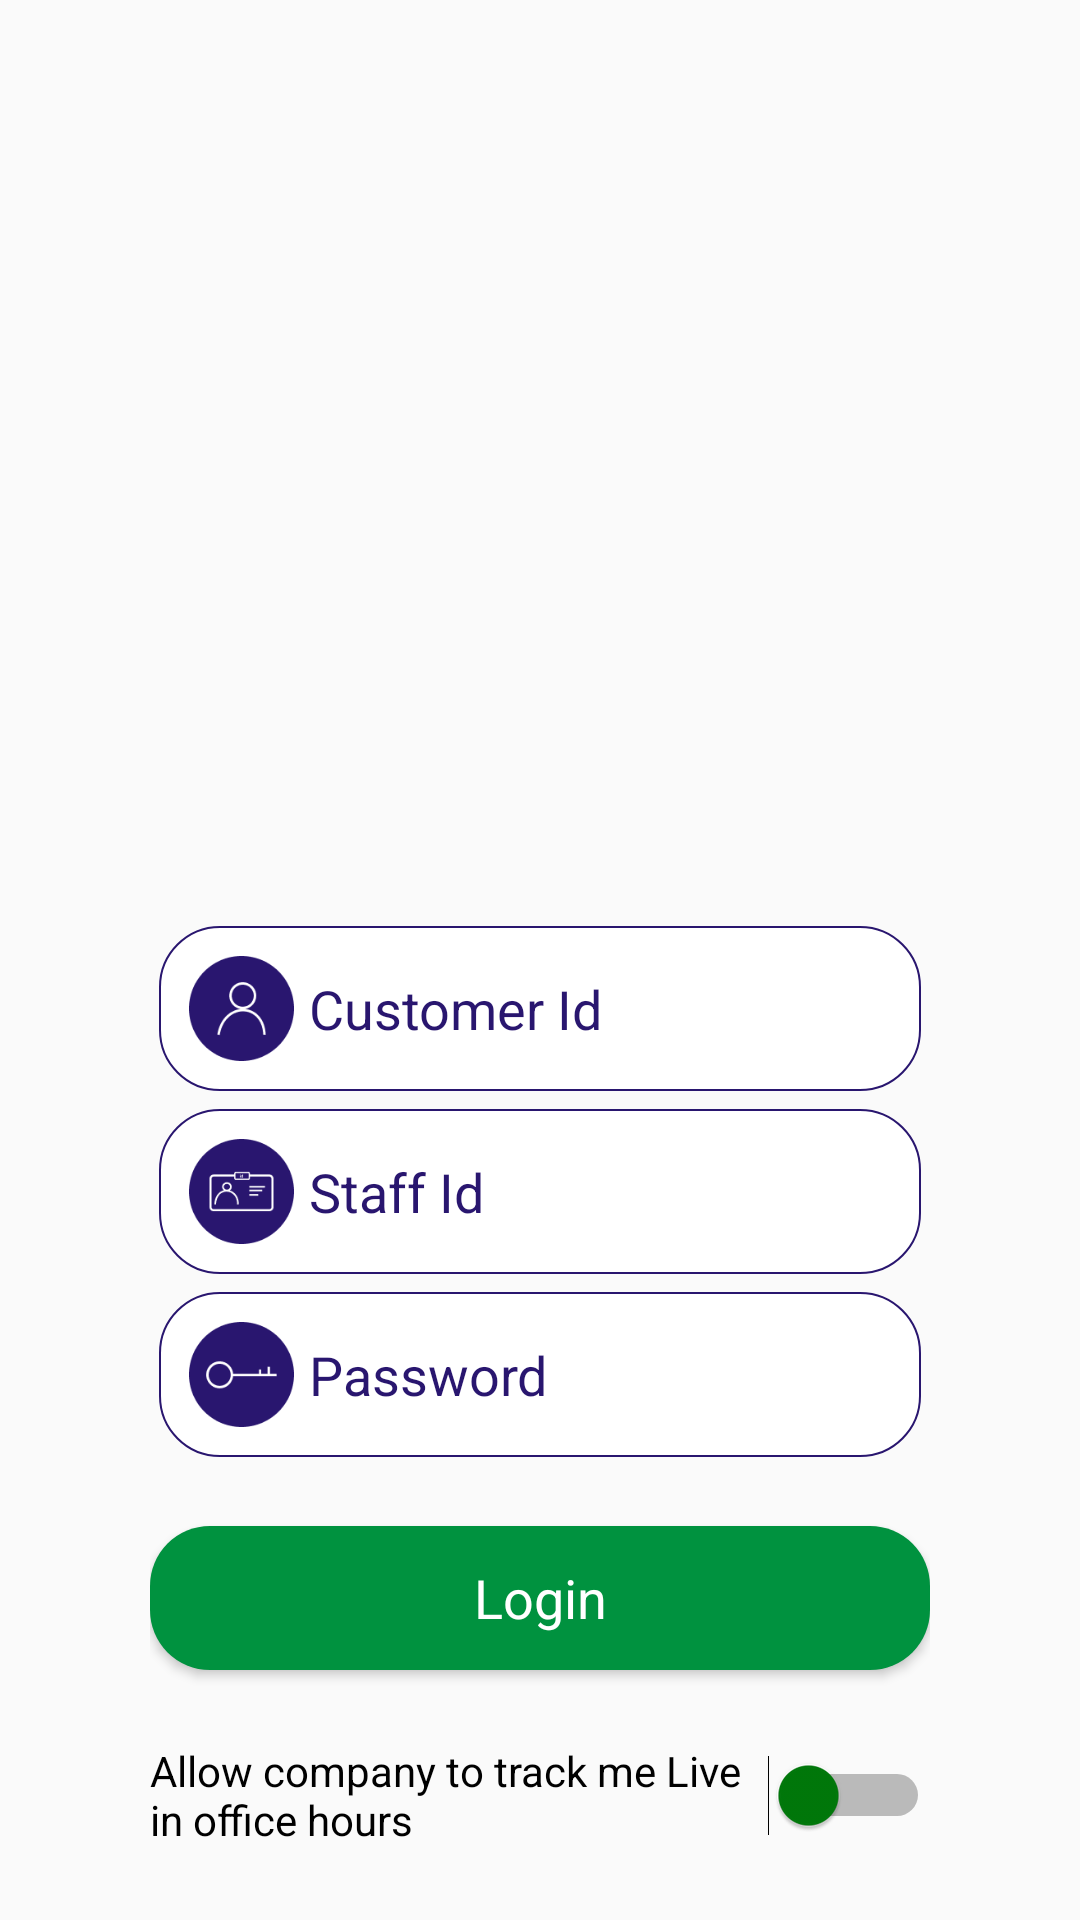

Named icons in this screenshot (1080*1920) and their bounding boxes, box(x1, y1, x2, y2):
profile: box(189, 956, 294, 1061)
